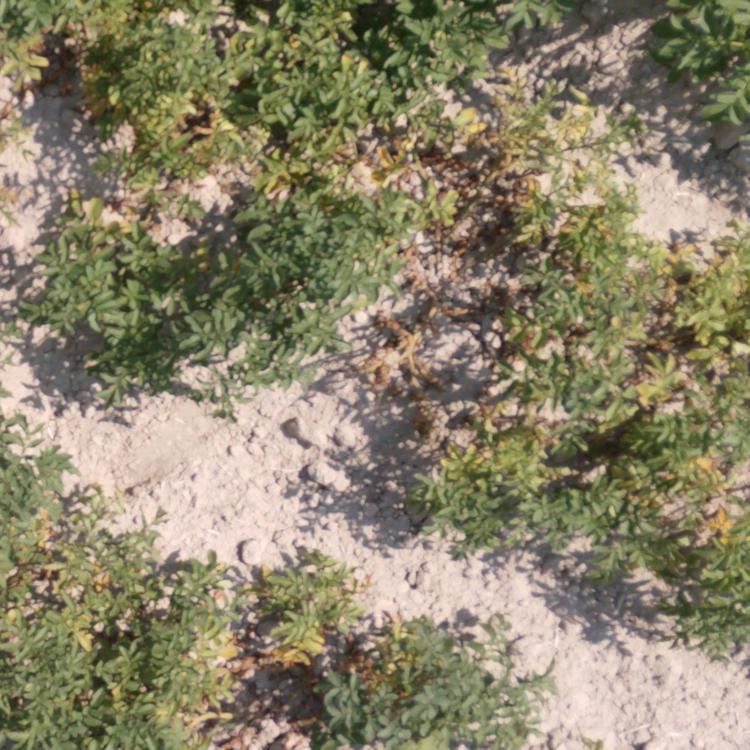healthy: (28, 233, 378, 357), (657, 1, 739, 125), (431, 1, 574, 54)
stressed: (419, 75, 623, 566), (1, 1, 249, 239), (627, 233, 743, 661), (1, 560, 248, 750), (255, 7, 419, 236), (247, 540, 377, 750), (379, 611, 551, 750), (1, 444, 123, 557)
